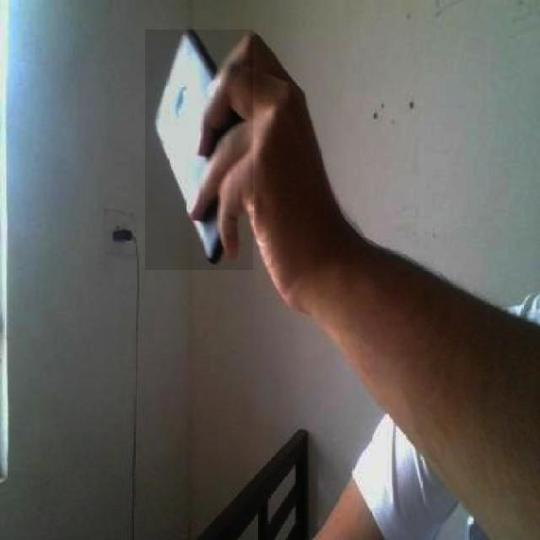phone: (137, 33, 276, 268)
